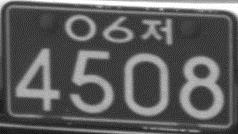0: (122, 53, 169, 118), (63, 13, 96, 41)
4: (15, 47, 60, 111)
5: (68, 49, 114, 115)
6: (102, 15, 134, 44)
8: (179, 54, 225, 121)
저: (140, 17, 173, 45)
